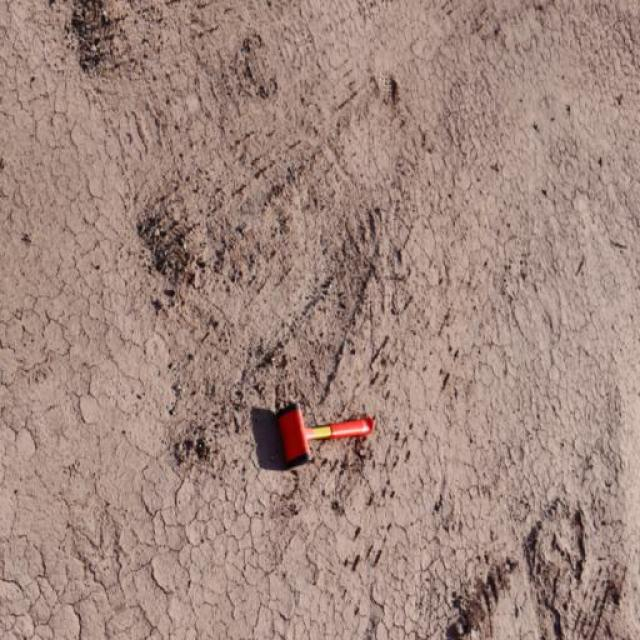mallet: (274, 400, 375, 465)
